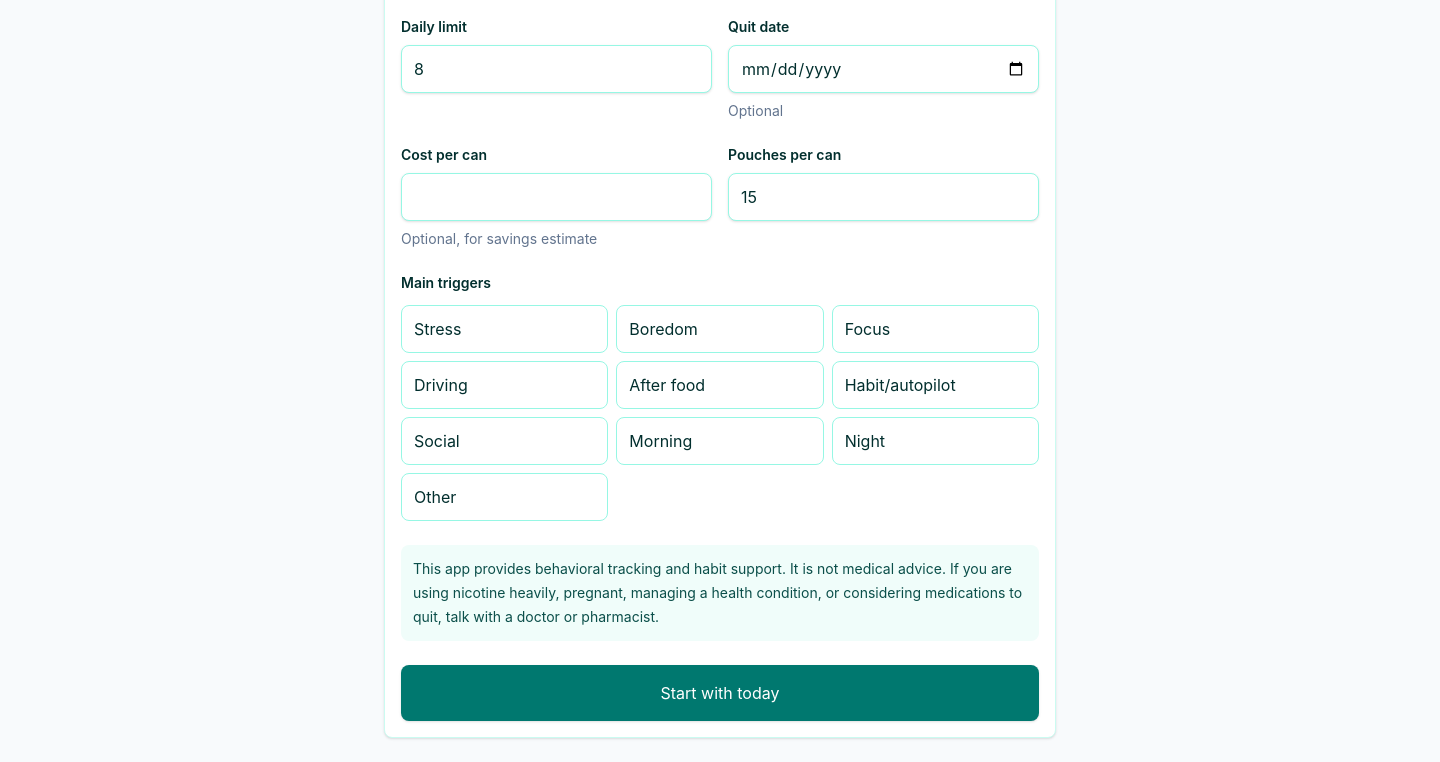
it: Pouchless app flows › completes onboarding and routes to Today
The width and height of the screenshot is (1440, 762).
(page scrolled)
Click the button "Start with today" at x=720, y=693, box [401,665,1039,721]
(page scrolled)
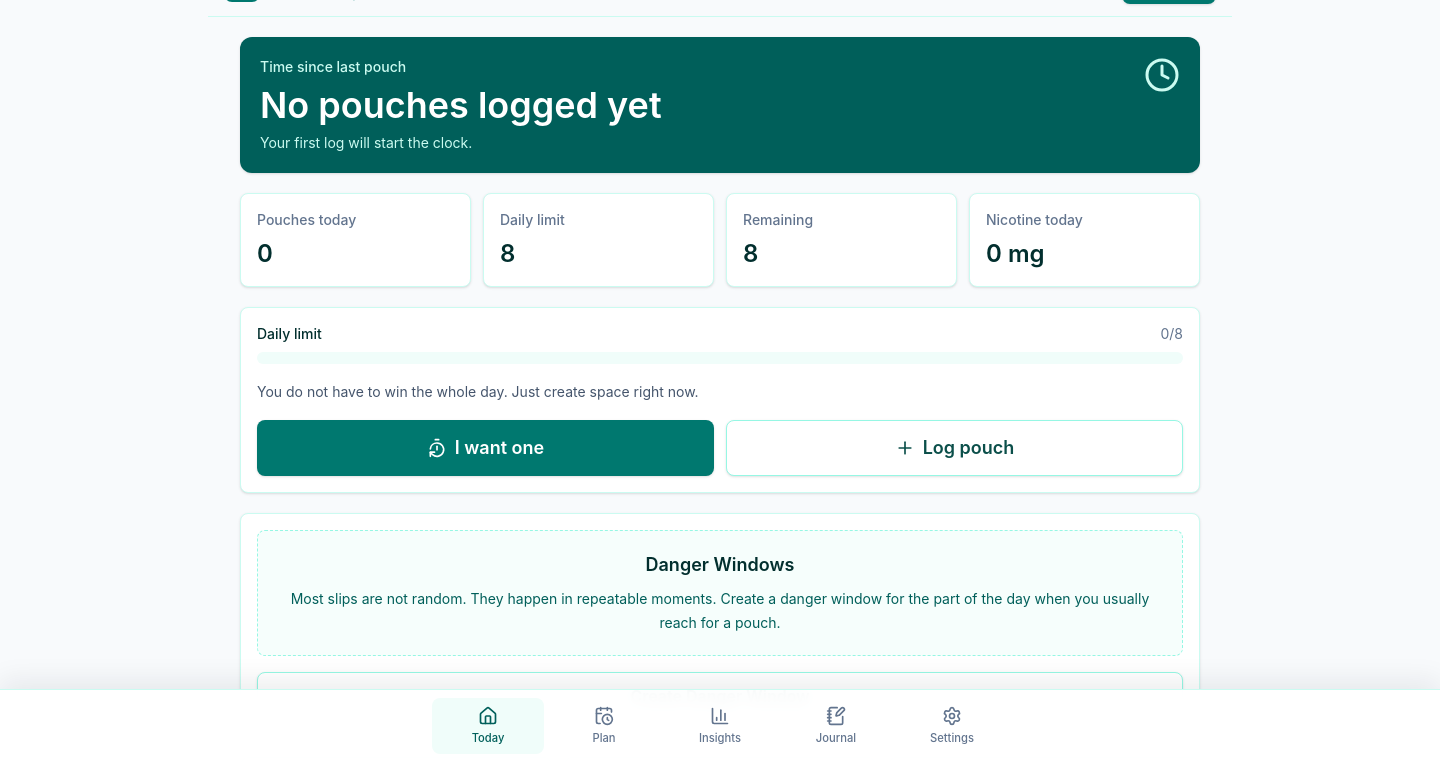
Check: the text "Time since last pouch" is shown, box [260,58,406,75]
